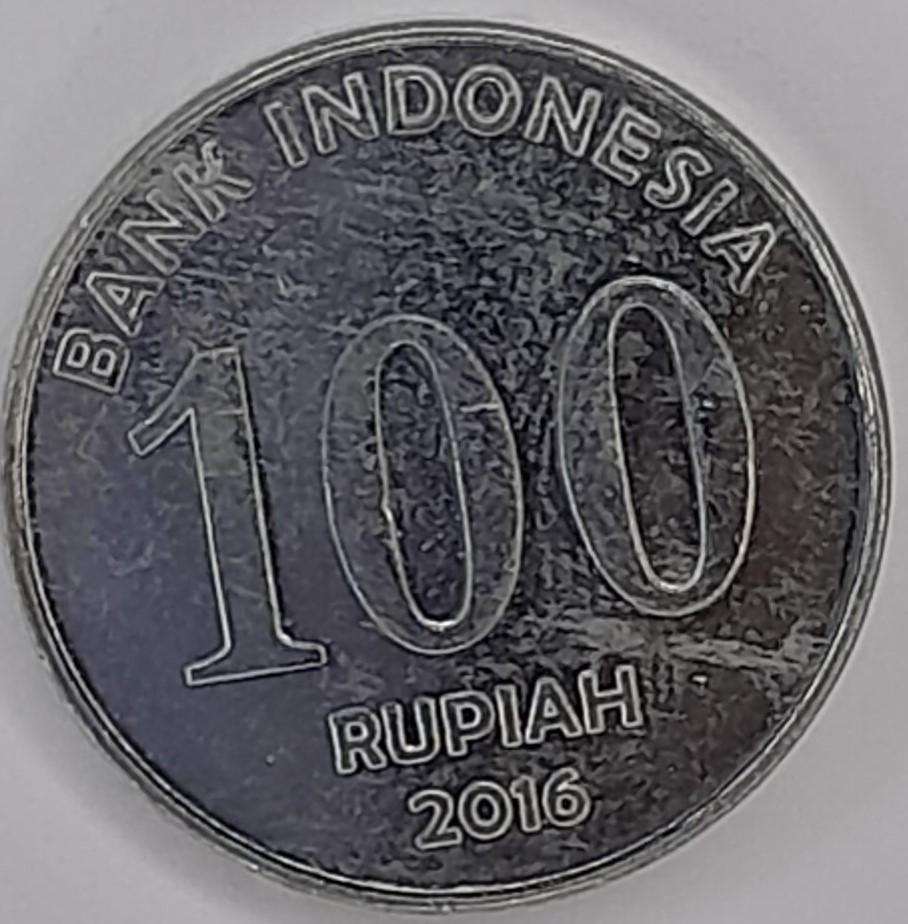coin_100_e2016: (0, 13, 897, 913)
